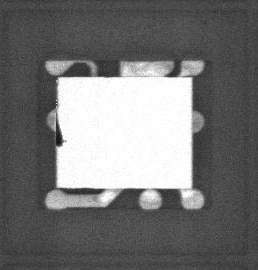DIE_BROKEN: (53, 115, 65, 150)
